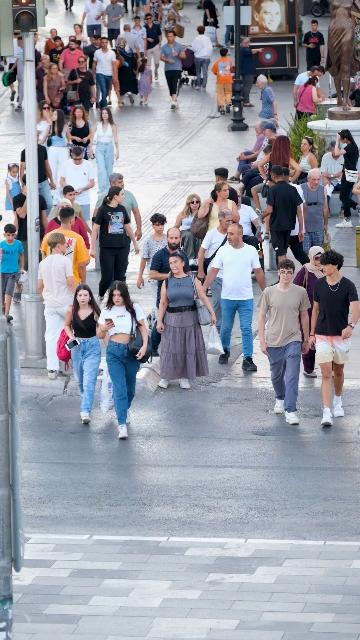person: (201, 223, 266, 374), (308, 249, 360, 428), (256, 258, 311, 426), (155, 251, 217, 390), (96, 280, 148, 440), (90, 185, 141, 308), (145, 228, 192, 356), (37, 232, 76, 380), (197, 210, 235, 355), (64, 284, 101, 425), (260, 166, 306, 267), (292, 245, 326, 379), (40, 207, 90, 286), (136, 212, 170, 315), (95, 172, 143, 242), (45, 198, 91, 271), (58, 145, 95, 234), (235, 121, 277, 197), (328, 129, 359, 229), (297, 168, 329, 262), (257, 135, 302, 199), (282, 166, 310, 266), (197, 181, 241, 244), (89, 107, 120, 196), (12, 174, 48, 248), (0, 225, 27, 323), (20, 144, 56, 212), (228, 122, 266, 183), (160, 30, 186, 111), (249, 141, 277, 216), (174, 194, 203, 259), (238, 37, 264, 107), (92, 37, 116, 109), (68, 55, 96, 115), (238, 196, 263, 259), (116, 37, 138, 105), (190, 26, 213, 91), (293, 66, 325, 112), (211, 49, 233, 115), (67, 104, 93, 159), (296, 77, 325, 123), (9, 34, 26, 111), (143, 13, 162, 81), (81, 34, 103, 92), (293, 136, 319, 185), (5, 162, 23, 230), (43, 63, 68, 111), (302, 20, 325, 72), (319, 146, 343, 195), (211, 167, 239, 205), (129, 16, 147, 75), (104, 0, 125, 49), (81, 0, 106, 41), (257, 74, 278, 121), (57, 41, 86, 74), (136, 57, 154, 108), (201, 0, 220, 48), (117, 24, 141, 58), (36, 54, 50, 111), (63, 186, 85, 222), (35, 104, 52, 148), (221, 0, 234, 48), (49, 36, 66, 66), (265, 118, 288, 138), (43, 29, 58, 59), (145, 0, 161, 23), (34, 33, 46, 56), (70, 24, 83, 42), (34, 48, 42, 74), (69, 36, 80, 47)
